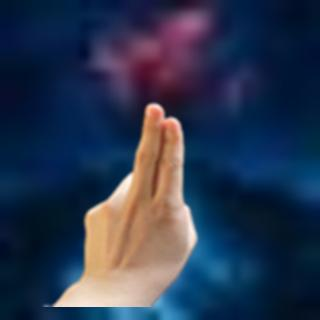DHAVE: (72, 93, 202, 286)
